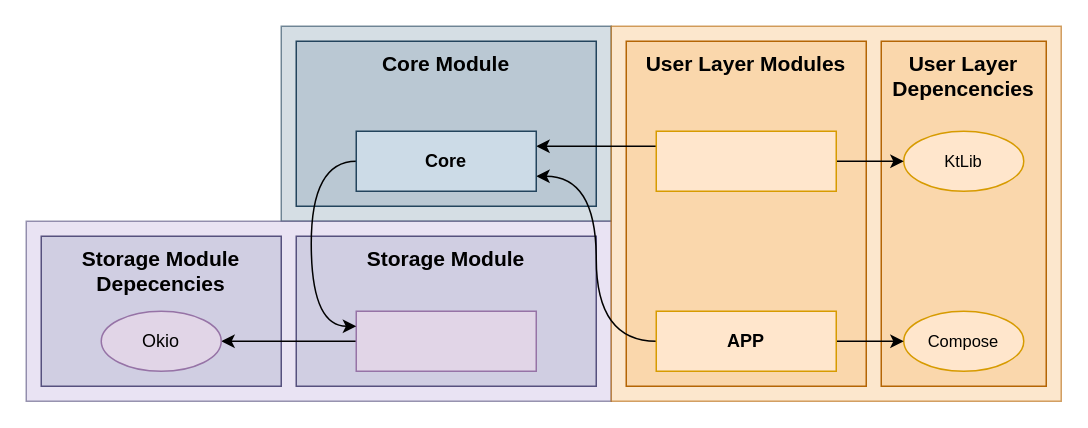
Image size: 1088x428. Some labels were removed from this diagram. The box of each missing label's shape, as (x1, y1, x2, y2) in pixels:
CLI: (655, 130, 836, 191)
Storage: (355, 310, 536, 371)
